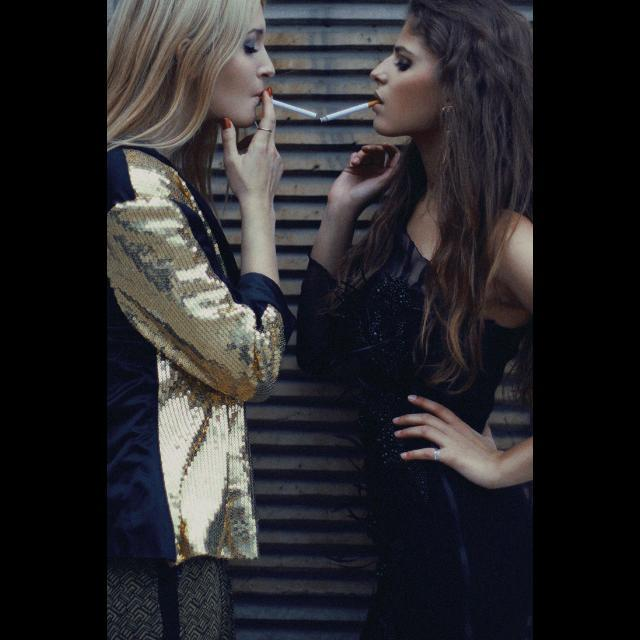rokok: (324, 94, 380, 126), (270, 93, 322, 125)
